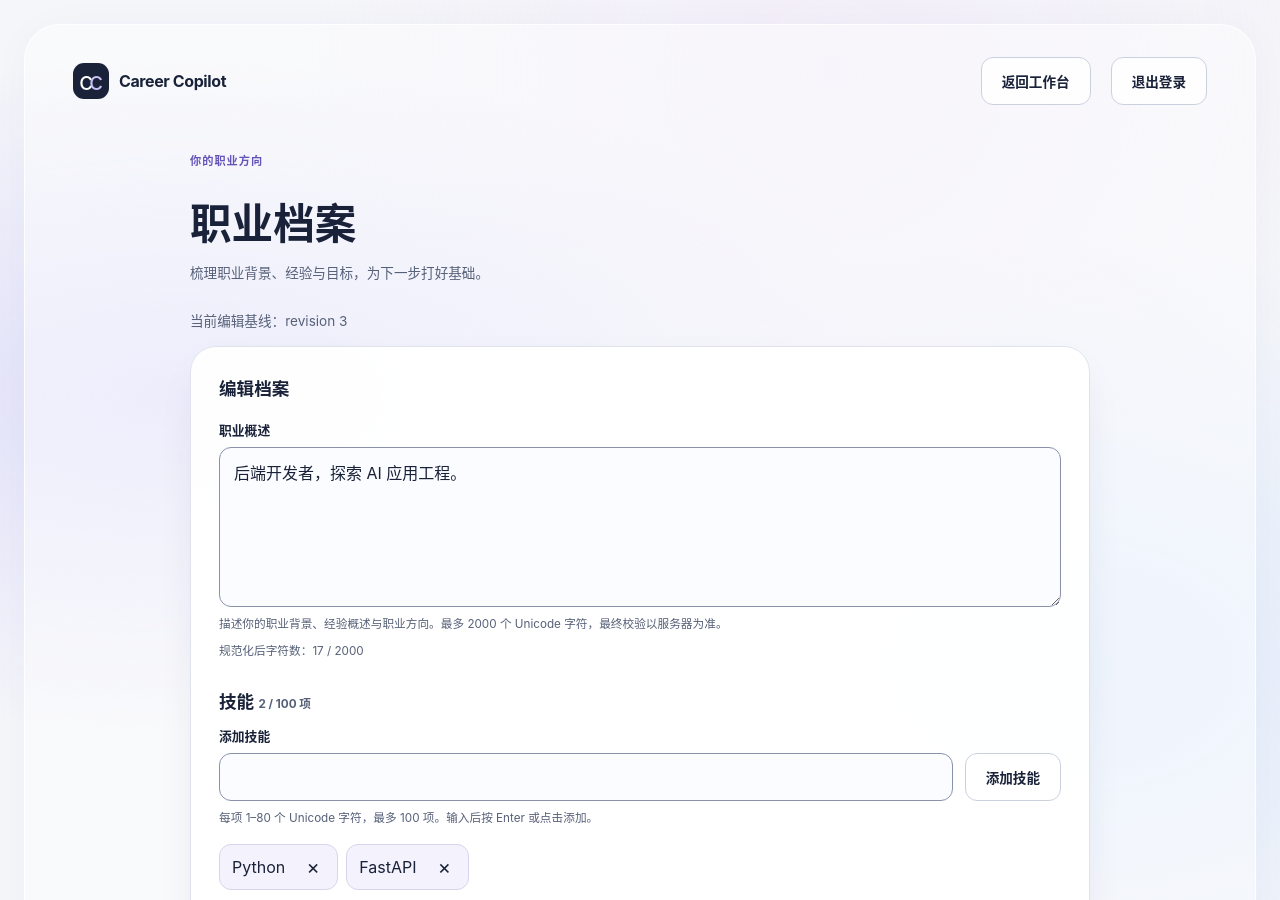
PUT explicitly clears summary and both lists
Clear the text box labelled "职业概述" at [640, 527], box [219,447,1061,607]
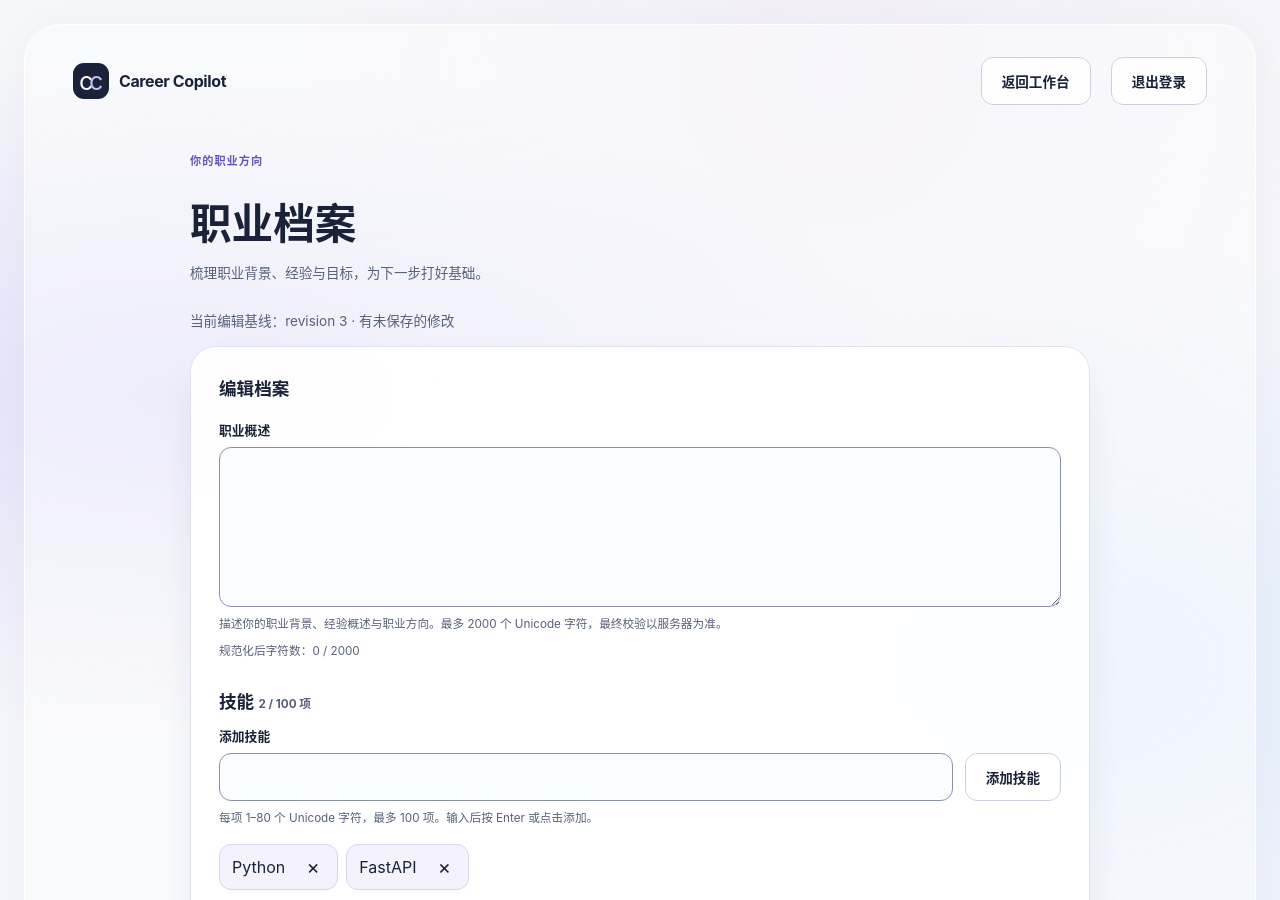
Click the button named "删除技能 Python" at [313, 867], box [293,847,333,887]
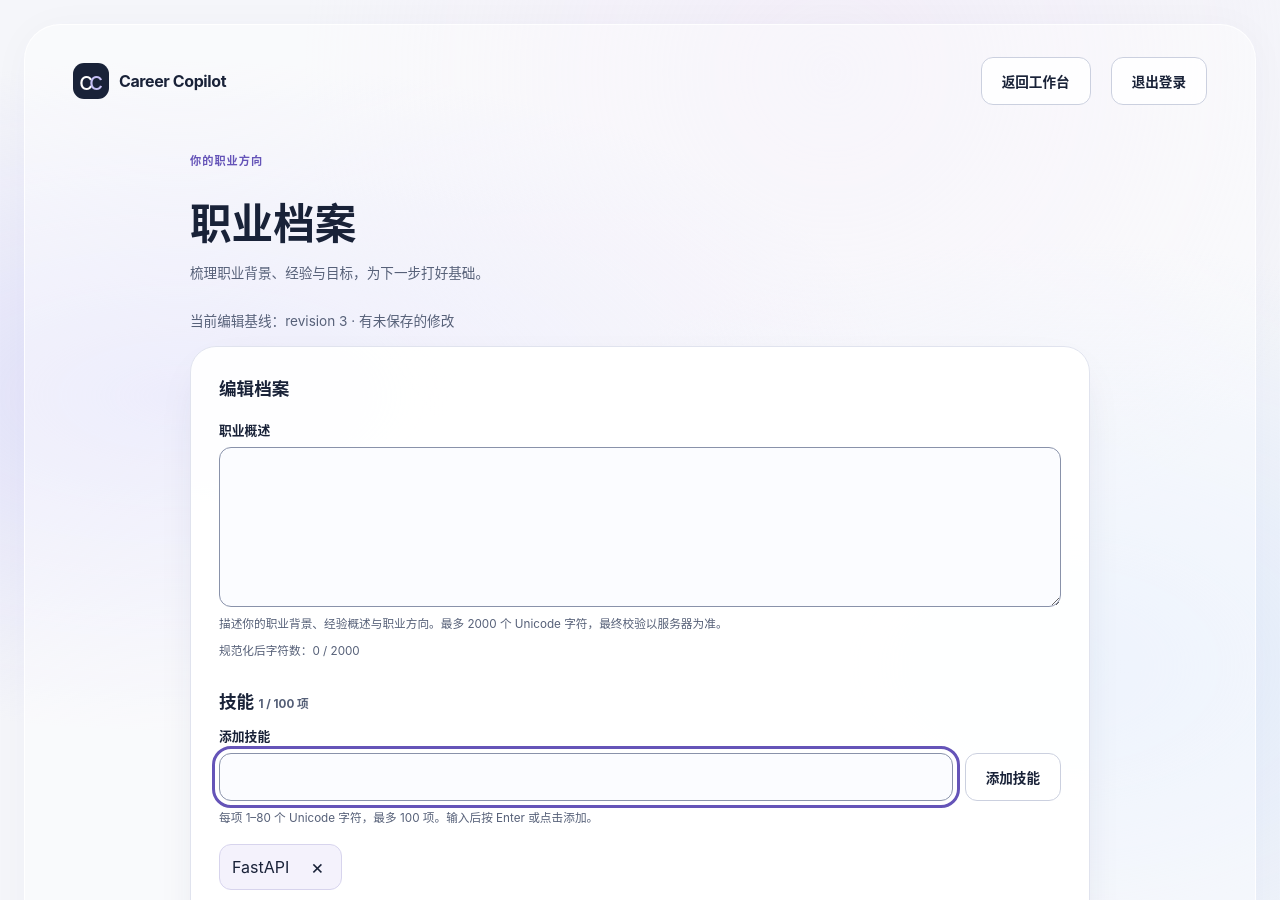
Click the button named "删除技能 FastAPI" at [317, 867], box [297,847,337,887]
(page scrolled)
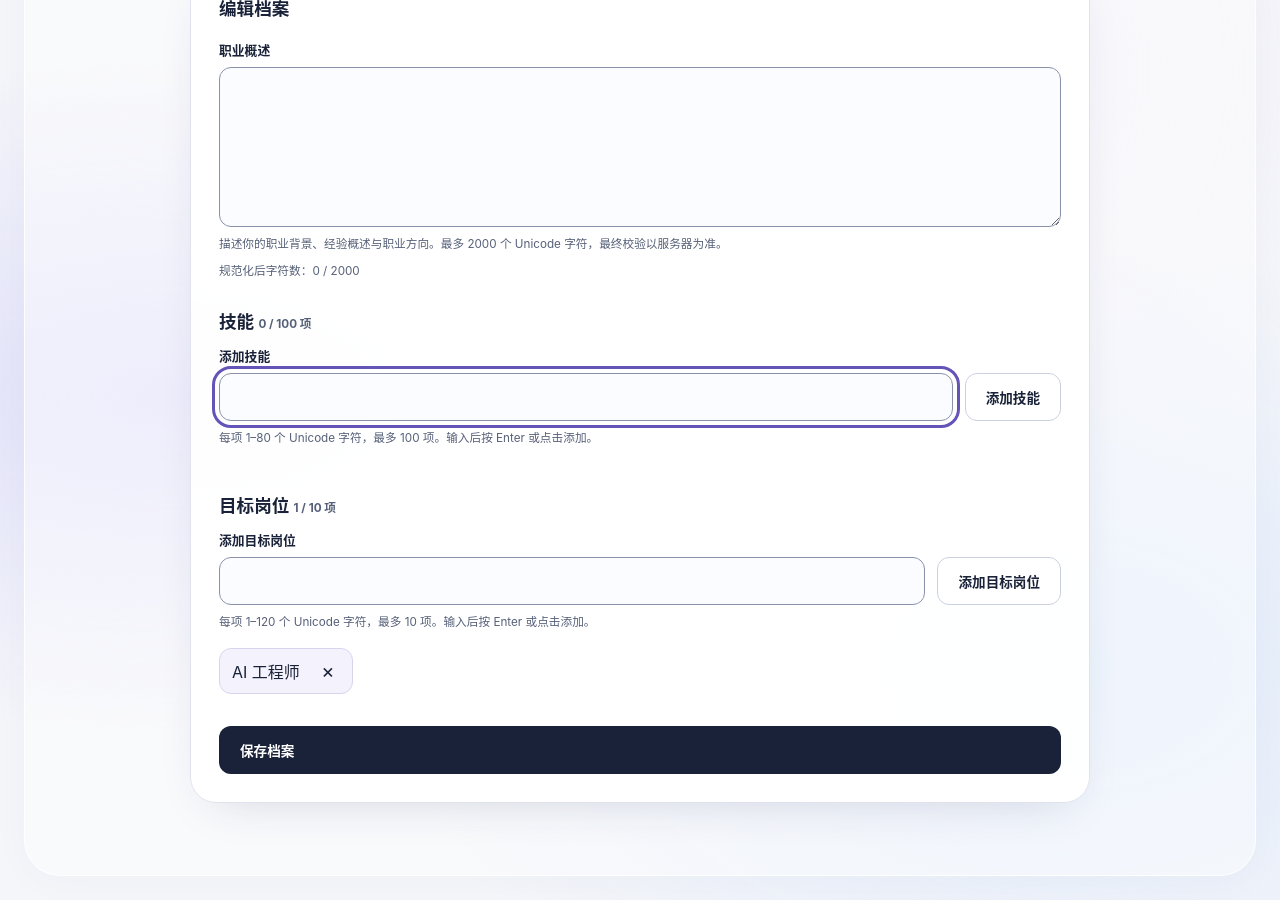
Click the button named "删除目标岗位 AI 工程师" at [328, 671], box [308,651,348,691]
(page scrolled)
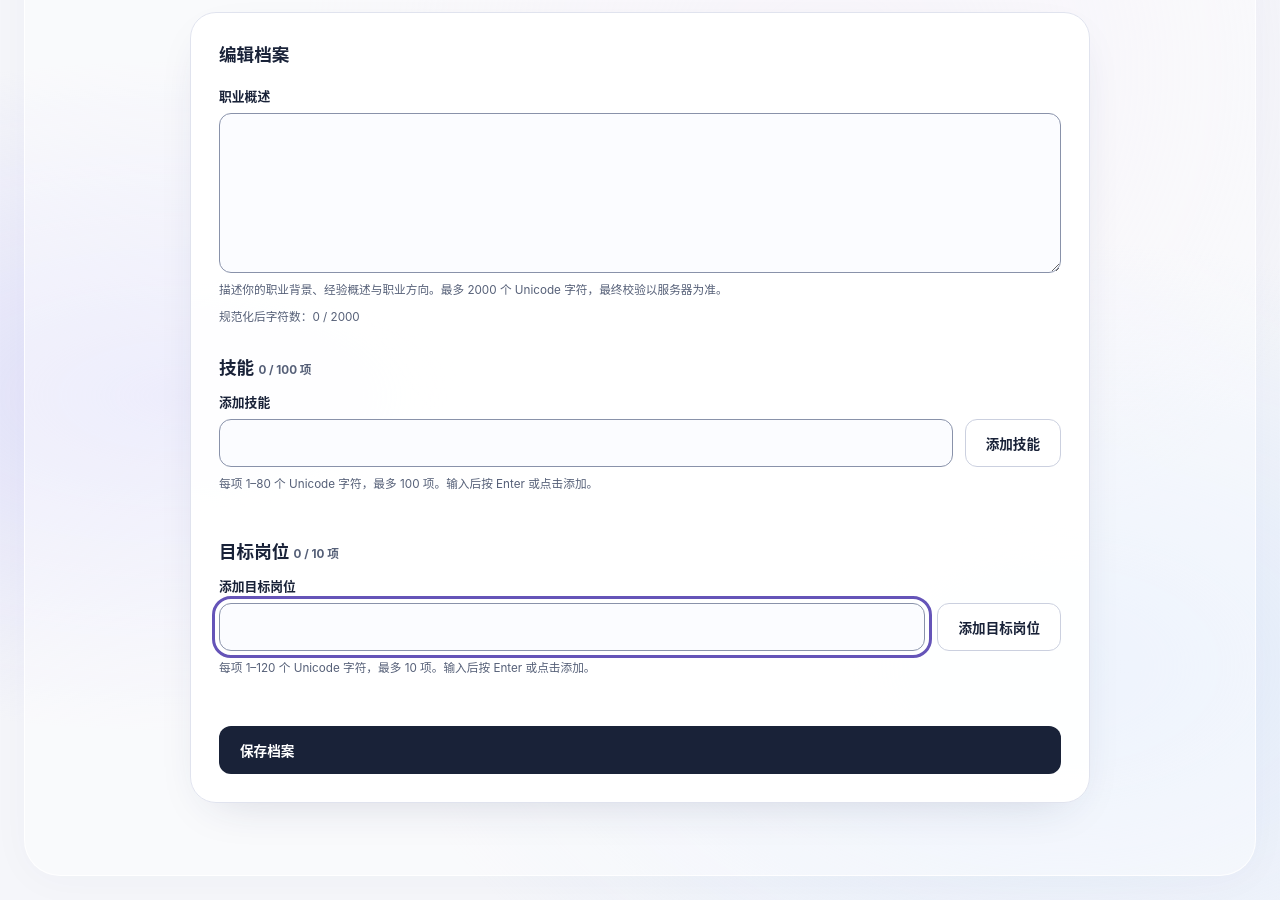
Submit the form
(page scrolled)
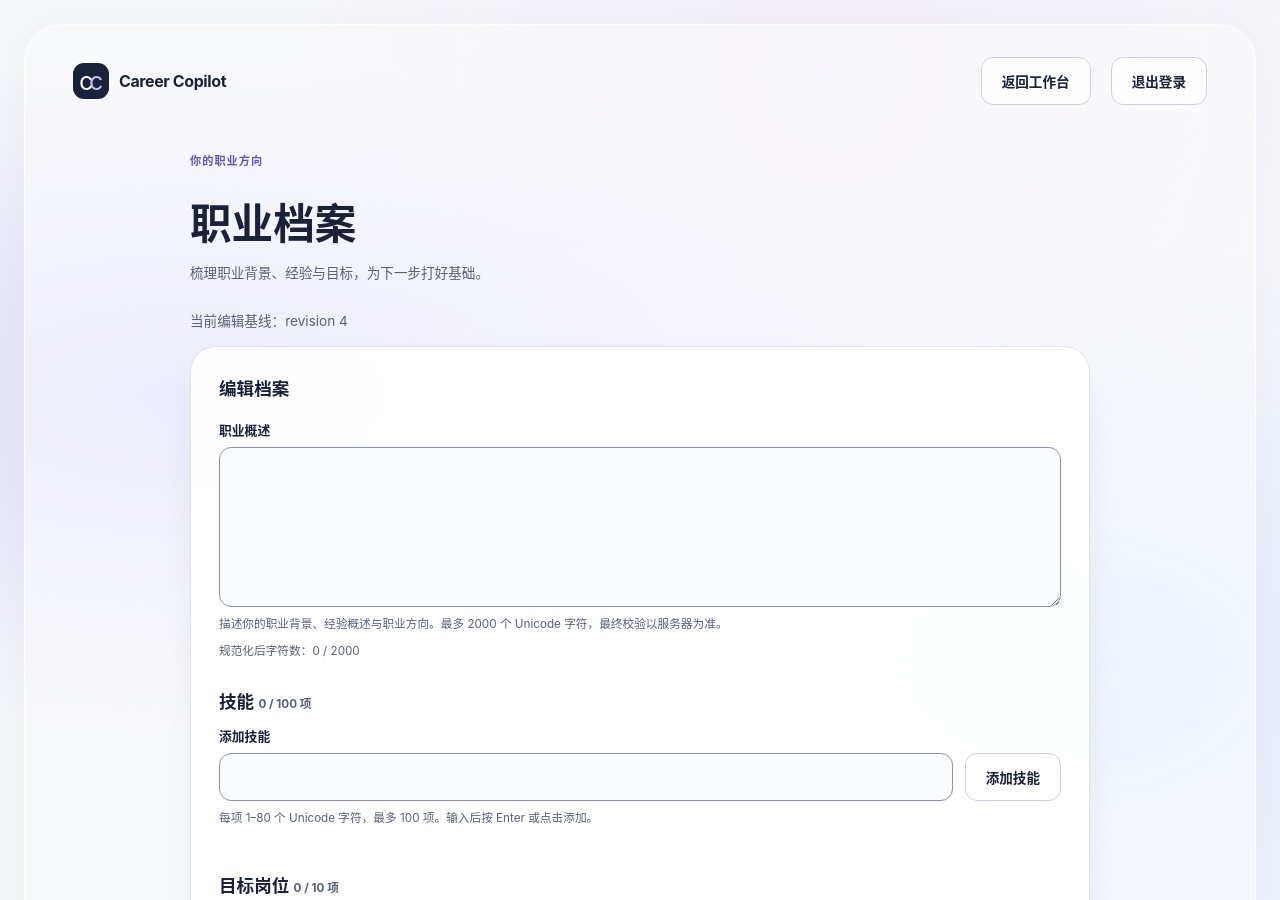
Result: the text "当前编辑基线：revision 4" is shown at [190,313,348,329]
